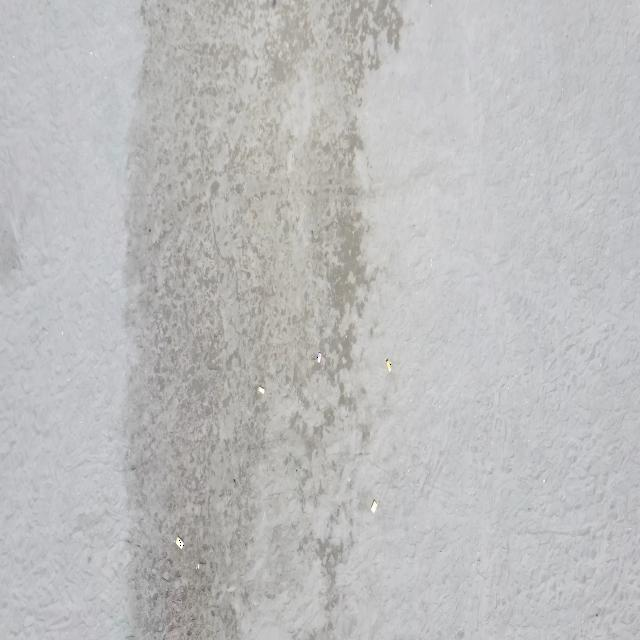Garbage: (384, 357, 391, 372), (369, 499, 376, 512), (313, 352, 322, 362), (176, 536, 183, 547), (256, 384, 263, 393), (196, 563, 199, 568)
